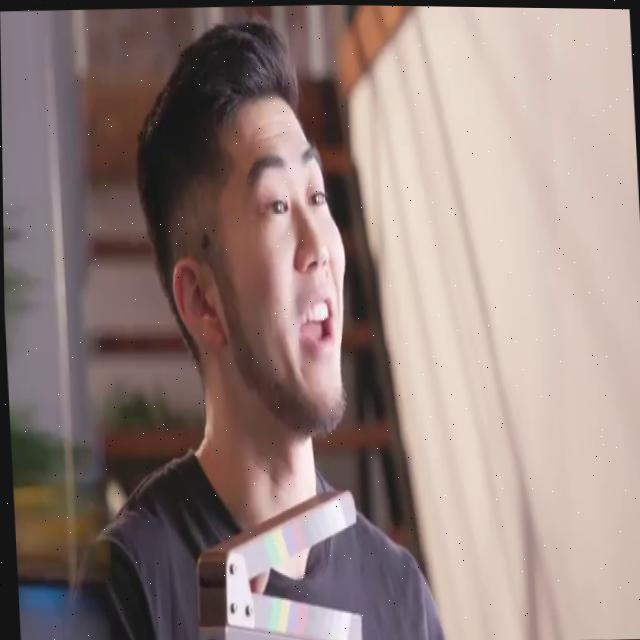Clapperboard: (186, 482, 365, 640)
